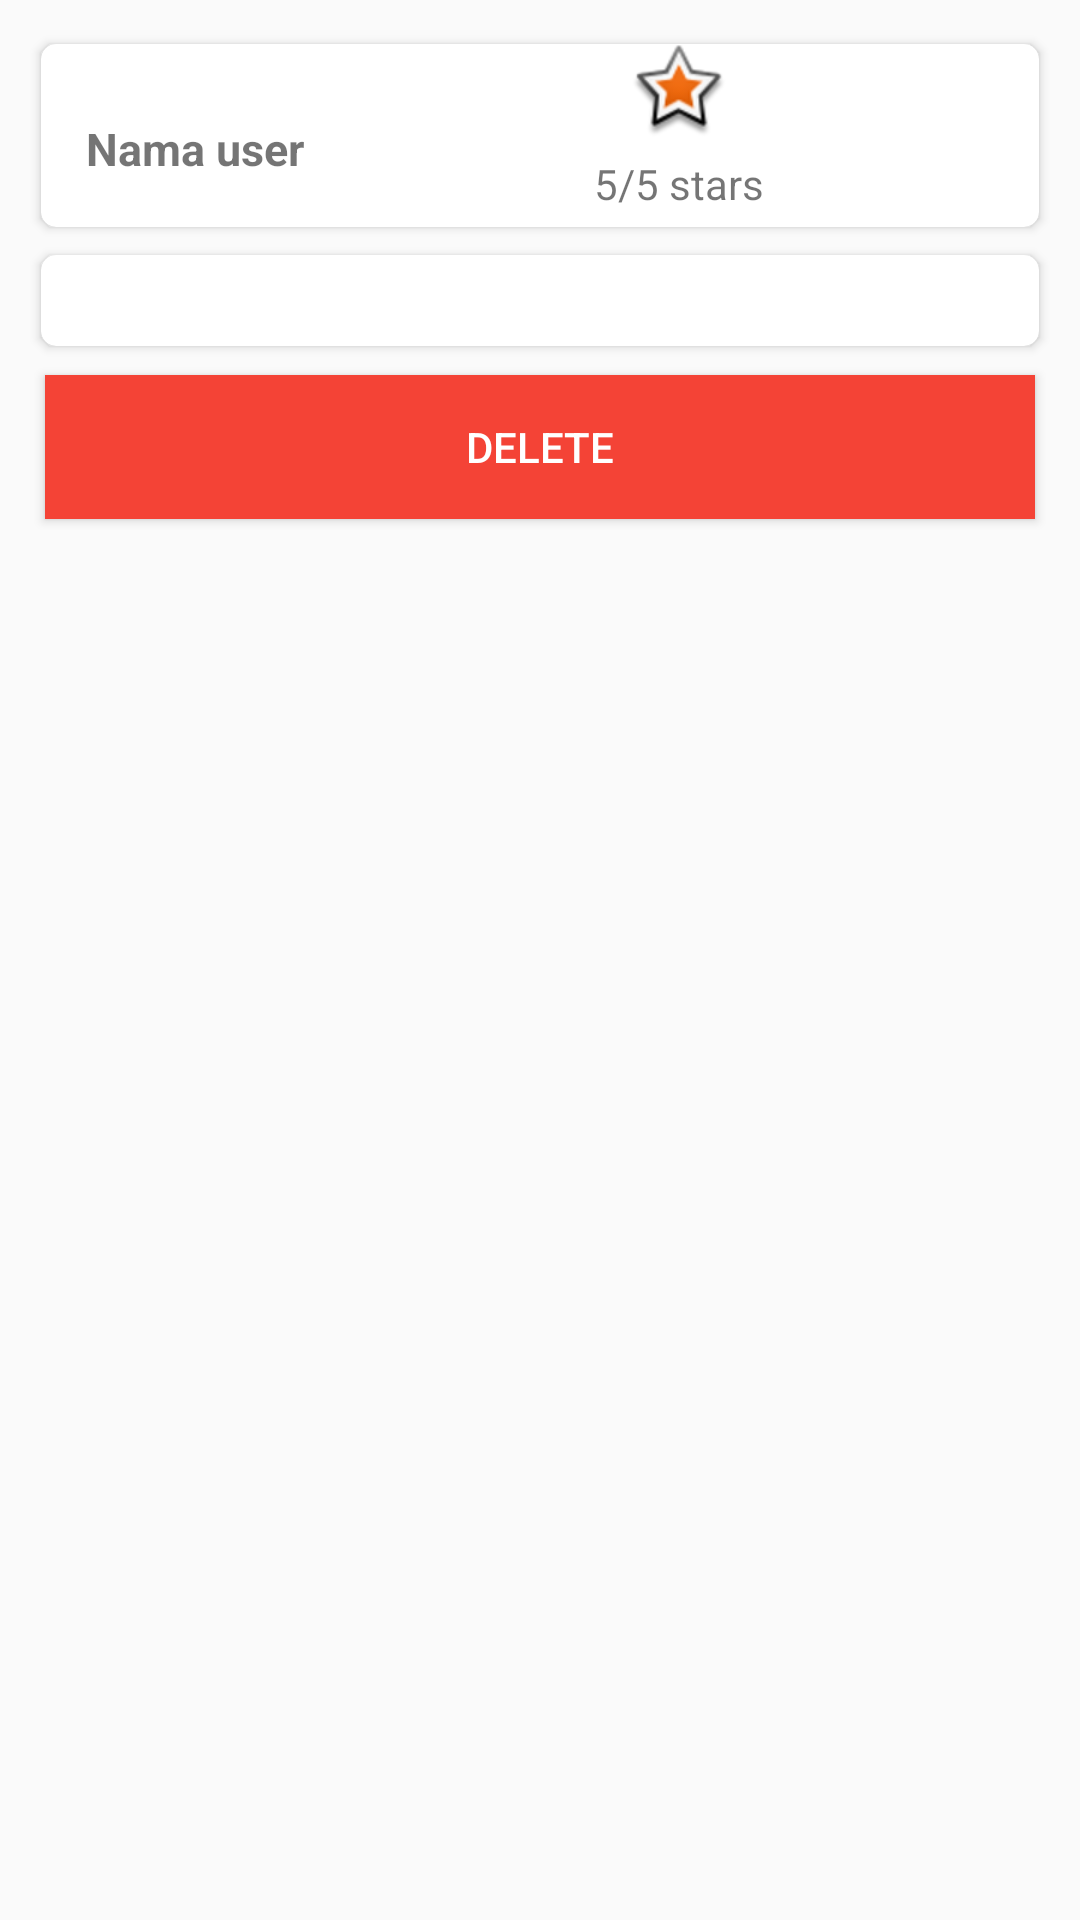

Named icons in this screenshot (1080w x 1920h) and their centers, (x=x, y=y):
star on: (x=679, y=88)
